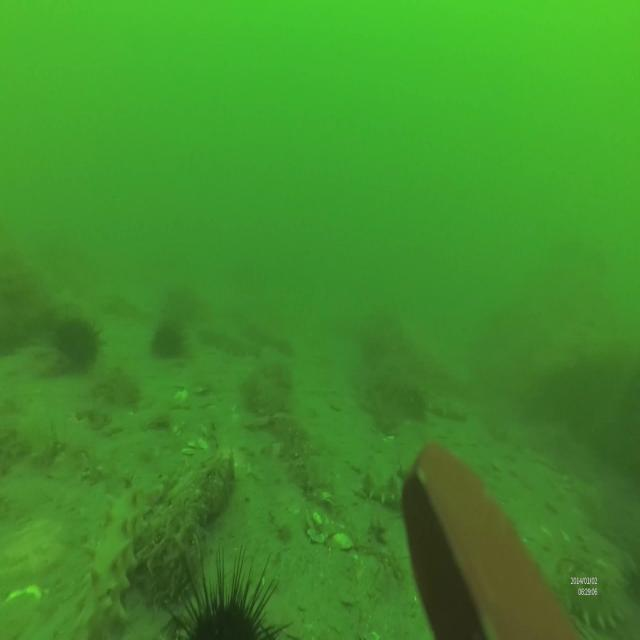echinus: (161, 546, 292, 640), (52, 313, 107, 372), (150, 318, 188, 362)
holothurian: (78, 481, 150, 640), (555, 562, 640, 640), (362, 464, 440, 513)
